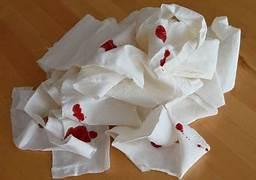cotton: (11, 4, 239, 177), (11, 88, 109, 177), (110, 107, 209, 177), (112, 129, 208, 176), (38, 15, 117, 71), (136, 4, 206, 56), (107, 71, 202, 107), (51, 126, 109, 177), (11, 87, 54, 150), (108, 106, 175, 144), (93, 44, 145, 87), (62, 97, 140, 125), (211, 17, 240, 91), (45, 117, 96, 158), (167, 39, 218, 78), (73, 65, 124, 97), (165, 94, 217, 124), (24, 85, 57, 125), (49, 136, 96, 158), (195, 73, 224, 107), (42, 70, 65, 104), (60, 66, 81, 103)
